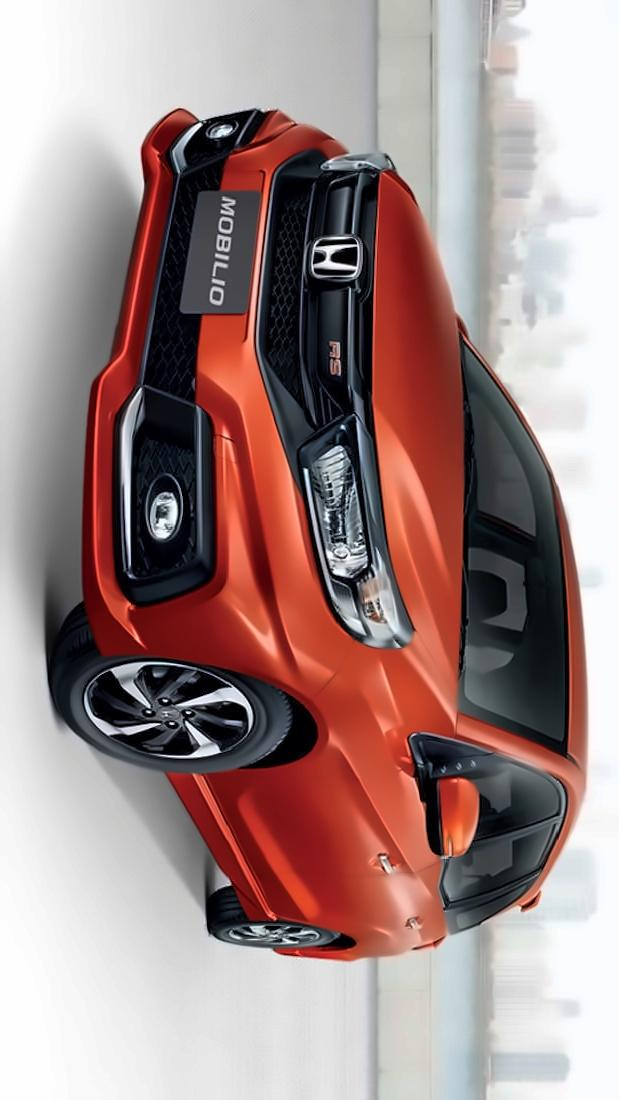Car hood: (365, 165, 476, 702)
Fender - -F-L-: (174, 635, 473, 775)
Front bumper: (75, 104, 335, 705)
Headlight - -L-: (290, 404, 420, 653)
Headlight - -R-: (315, 139, 399, 184)
Passenger-s door - -F-L-: (200, 743, 574, 880)
Passenger-s door - -R-L-: (221, 829, 574, 943)
Side bumper - -L-: (162, 755, 279, 930)
Side mirror - -L-: (415, 770, 483, 867)
